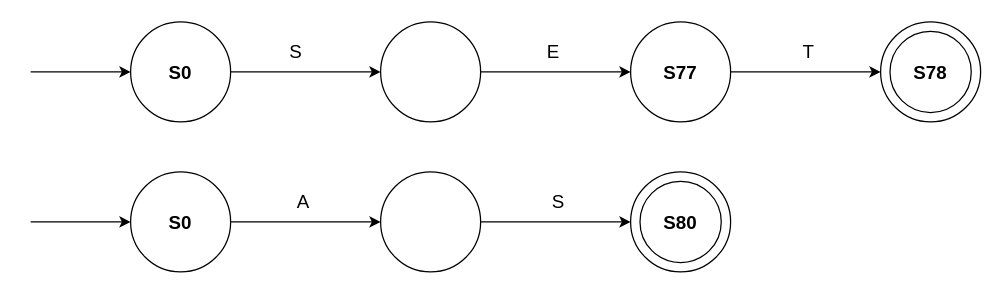
This 1003x294 diagram has some shape labels left out. The centre of each missing label's shape, as x and y in pixels:
"S52" goes at (x=430, y=71).
"S79" goes at (x=430, y=221).
